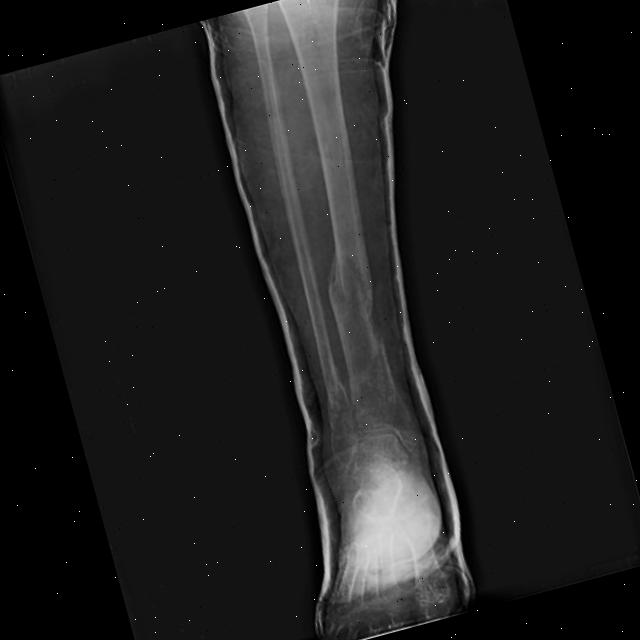Fracture: (324, 246, 374, 327), (344, 331, 385, 404), (322, 369, 353, 429)
